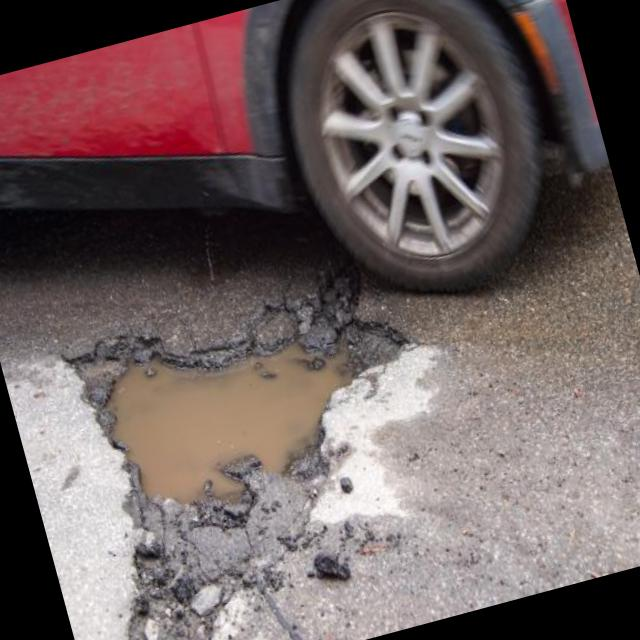Potholes: (33, 245, 417, 574)
